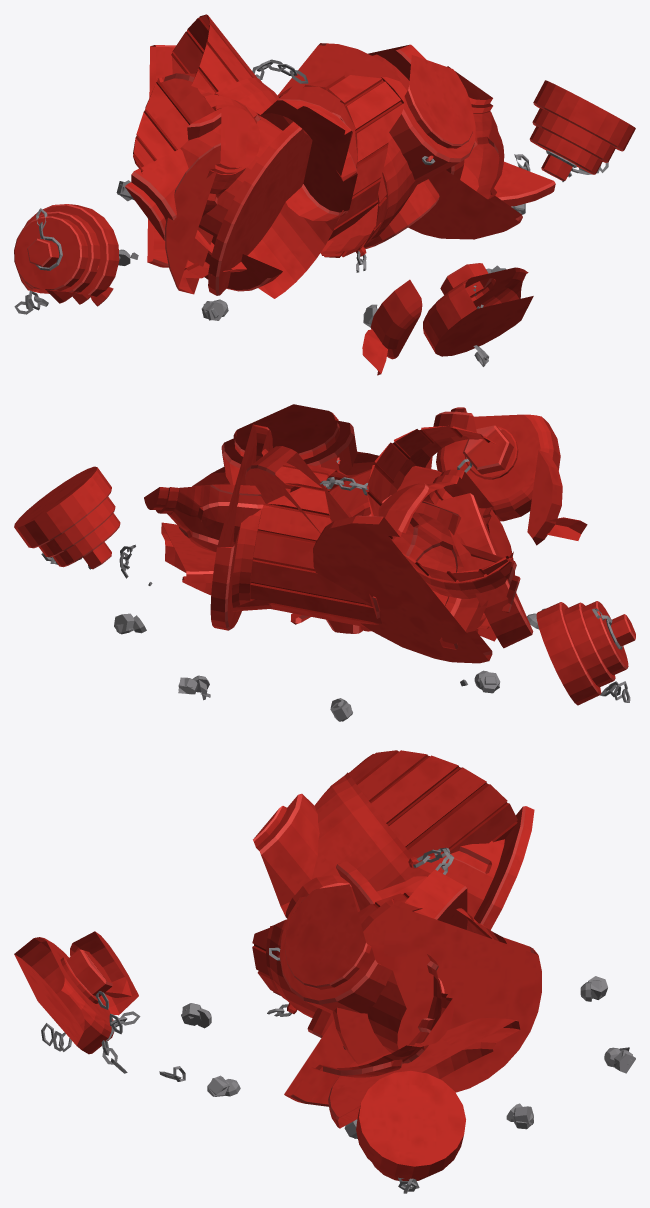
File: houdini_fire_hydrant_prop_pieces.glb
3 renders of one model, top to bottom at view 1: azimuth 30°, elevation 25°; view 2: azimuth 150°, elevation 25°; view 3: azimuth 270°, elevation 25°, orthographic. The views are drawn at different scales.
Parts seen in each view (by area): view 1: LOD0; view 2: LOD0; view 3: LOD0.
Boxes of the visible parts, x1=… form: LOD0: x1=14, y1=14, x2=635, y2=375; LOD0: x1=14, y1=404, x2=635, y2=721; LOD0: x1=14, y1=750, x2=635, y2=1193.
Bounding box in the file's own units: 0.9143 × 0.3351 × 0.7721.
Materials: 2 (2 with a texture image).
